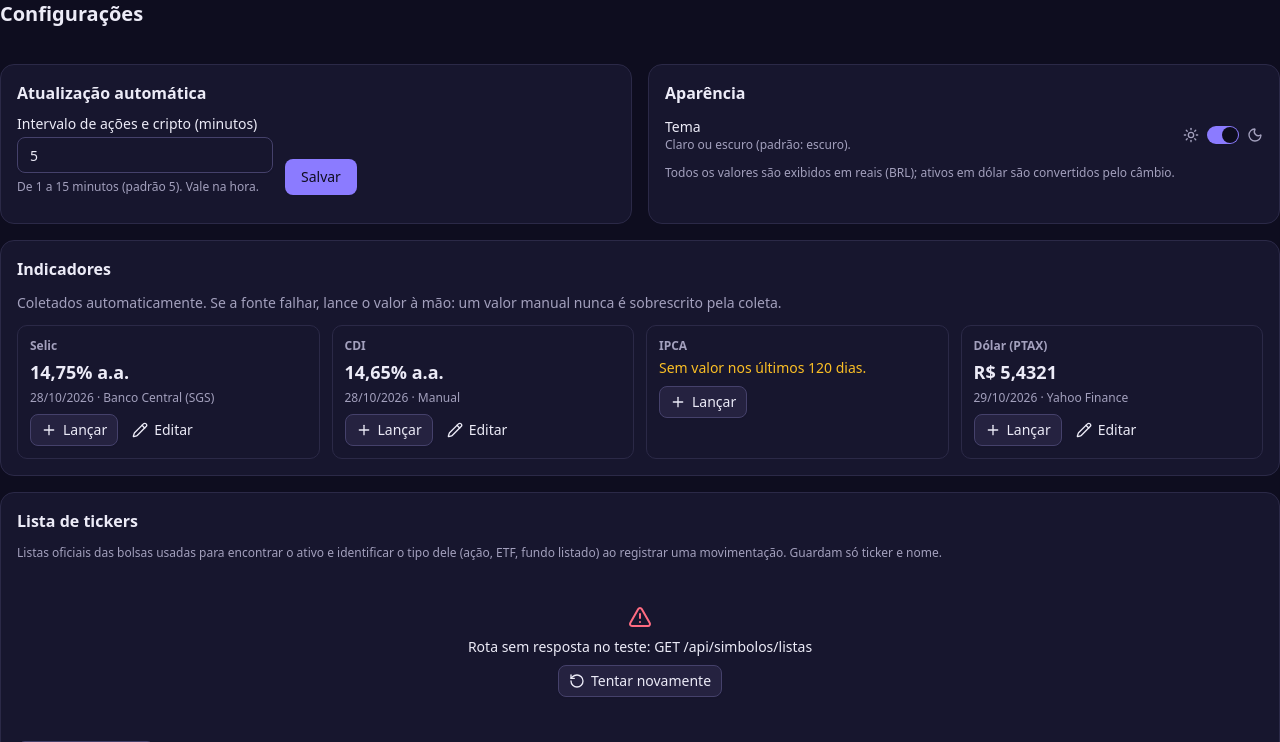
Configurações › intervalo: carrega, valida (1 a 15) e salva
The width and height of the screenshot is (1280, 742).
Step 1. Replace the text in the number field labelled "Intervalo de ações e cripto (minutos)" with "20" → (145, 155), box x1=17 y1=137 x2=273 y2=173
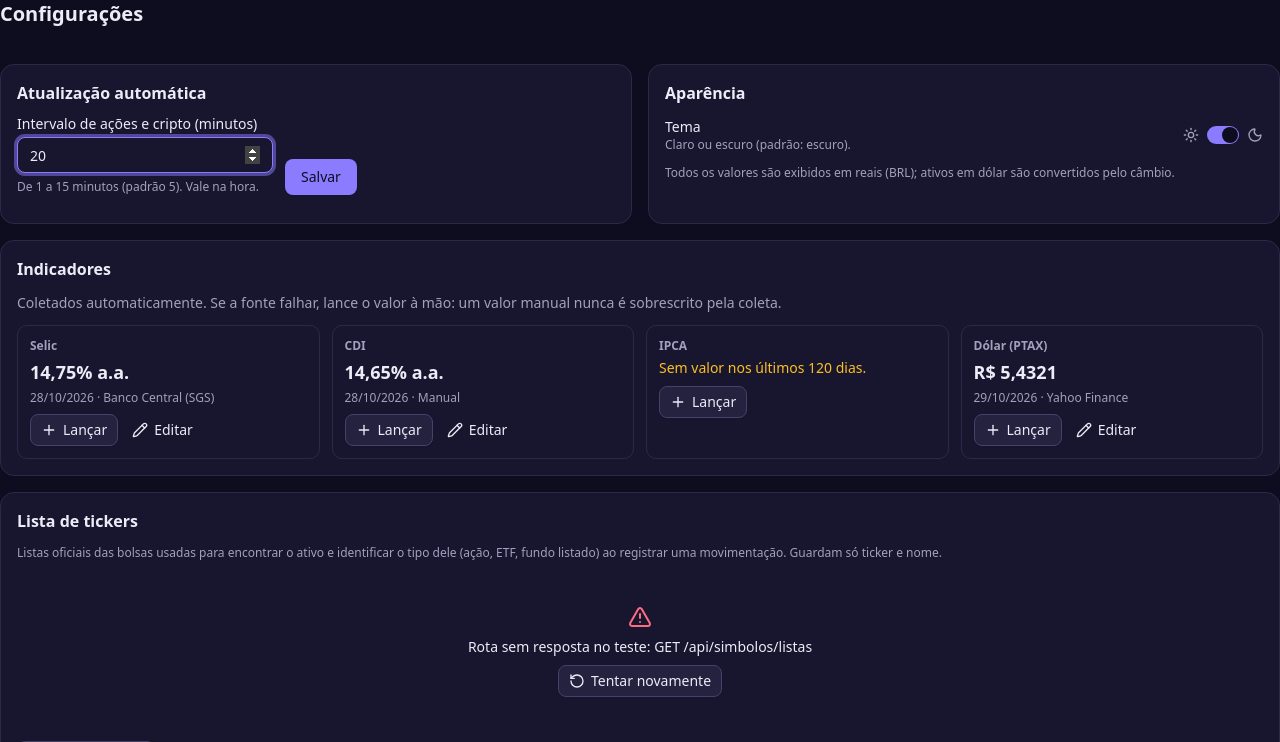
Step 2. Click the button "Salvar" → (321, 177), box x1=285 y1=159 x2=357 y2=195
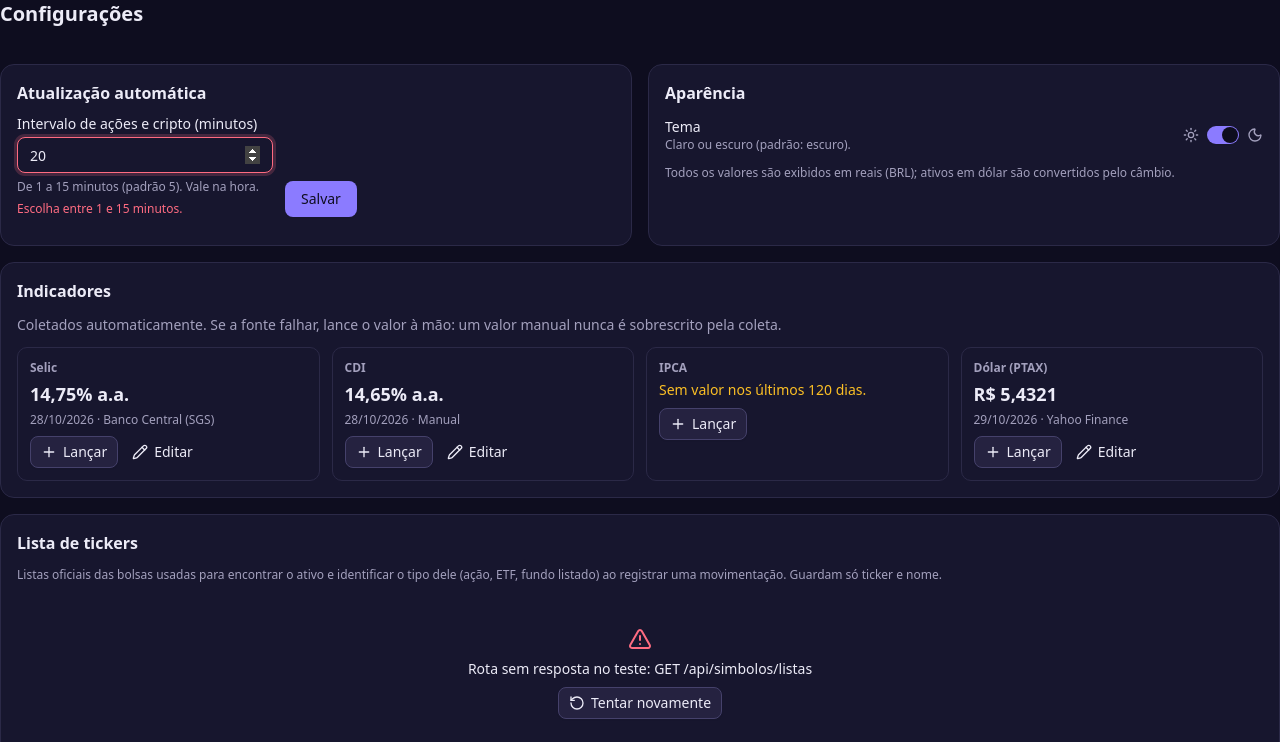
Now the text "Escolha entre 1 e 15 minutos." is shown, box x1=17 y1=200 x2=182 y2=217
Step 3. Replace the text in the number field labelled "Intervalo de ações e cripto (minutos)" with "10" → (145, 155), box x1=17 y1=137 x2=273 y2=173
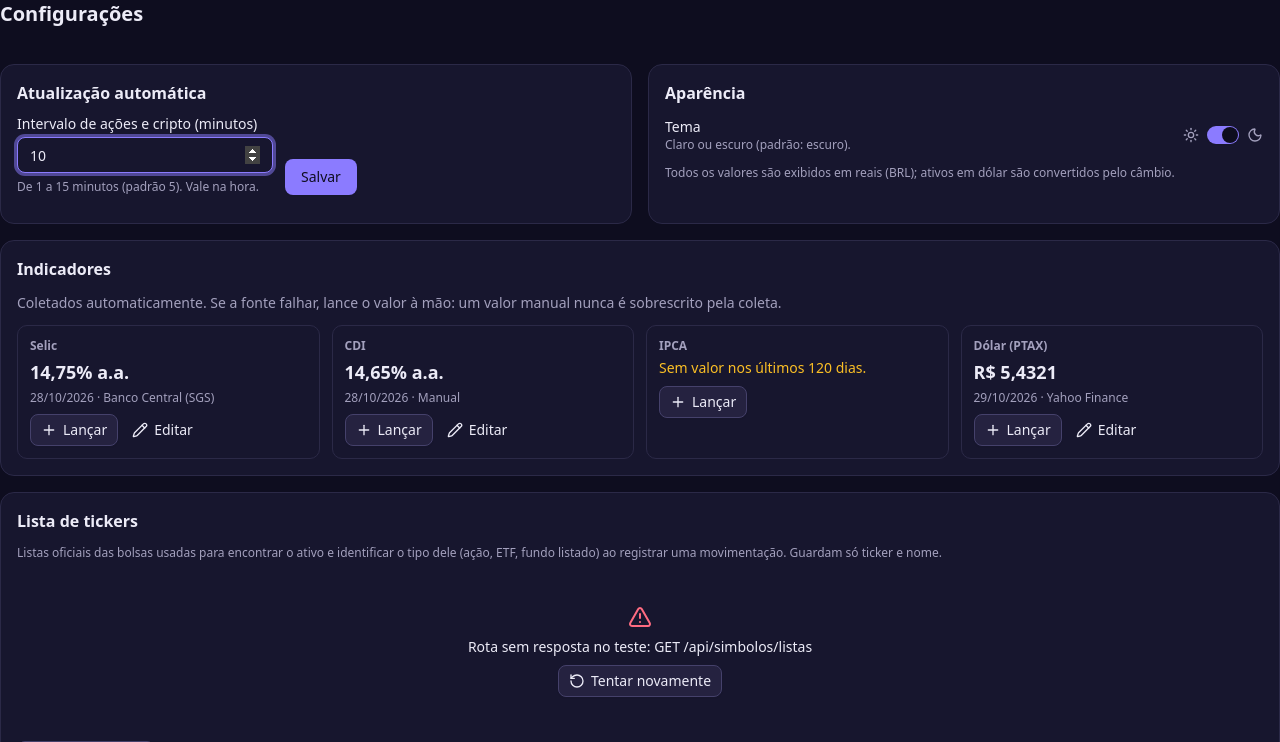
Step 4. Click the button "Salvar" → (321, 177), box x1=285 y1=159 x2=357 y2=195
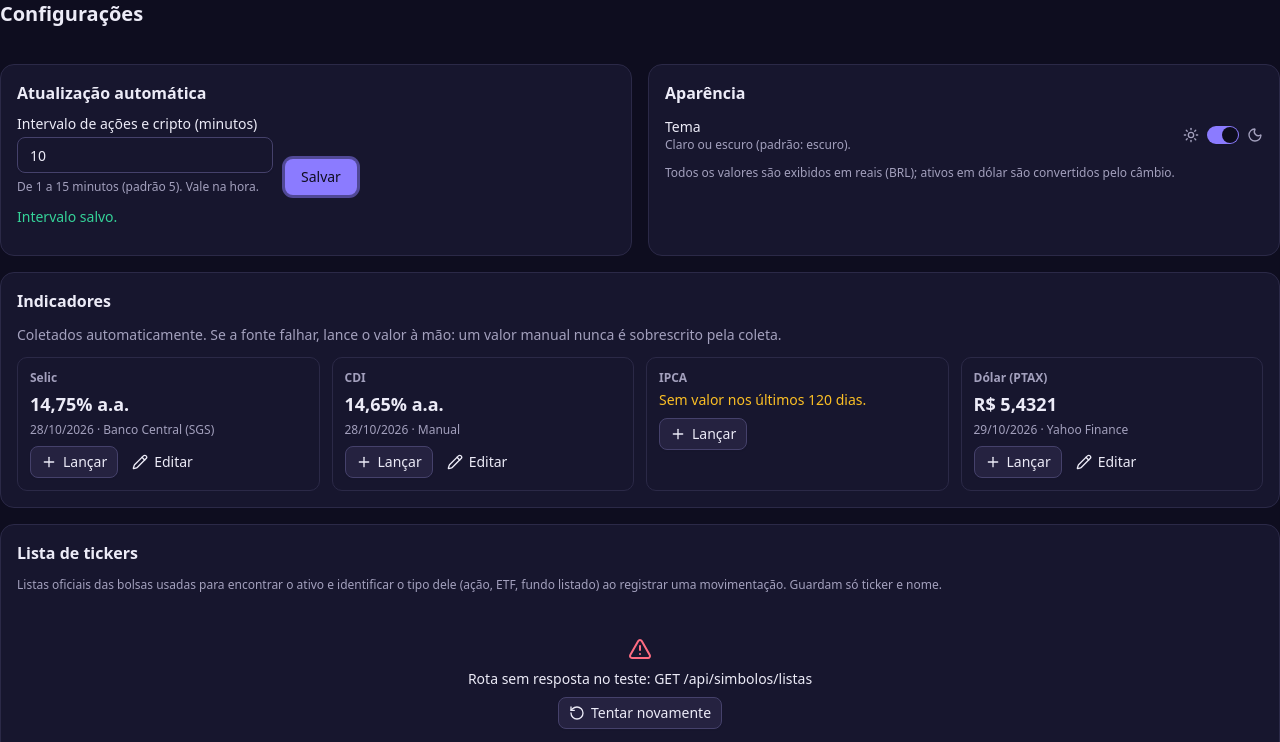
Now the text "Intervalo salvo." is shown, box x1=17 y1=207 x2=117 y2=226
